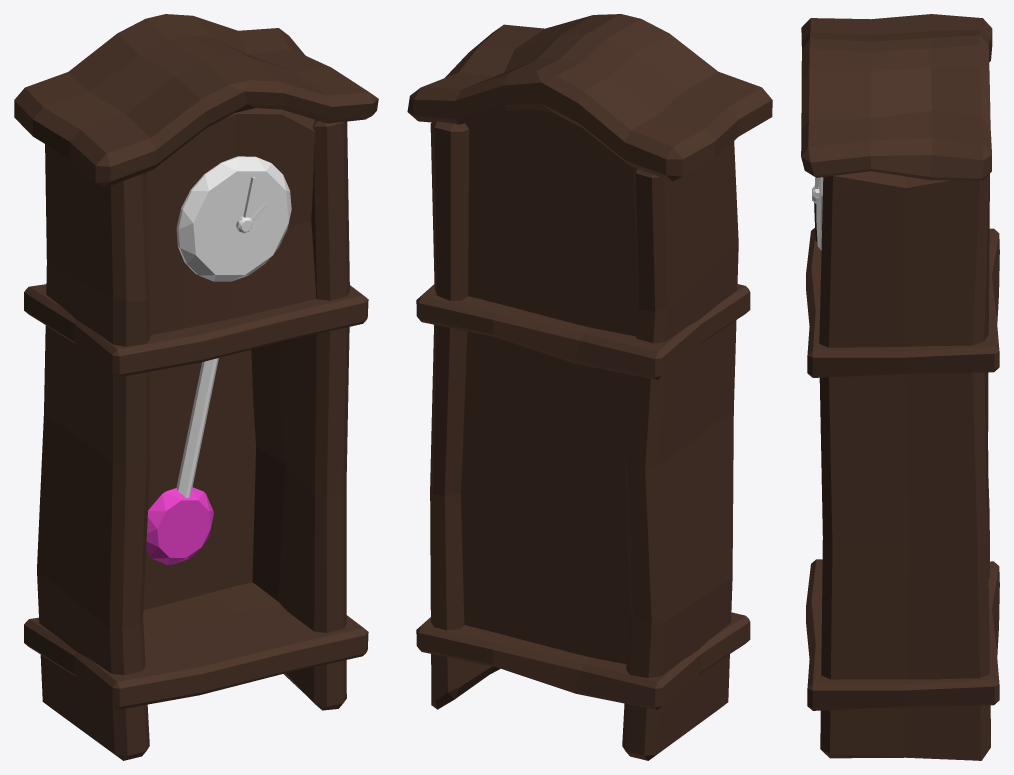
File: clock.fbx
3 views of the same model, side by side, from view 1: azimuth 30°, elevation 25°; view 2: azimuth 150°, elevation 25°; view 3: azimuth 270°, elevation 25° (orthographic).
Parts seen in each view (by area): view 1: Cube.005, Cube.004, Cube.003, Cube.002, Cube.008, Plane, Cube.001, Cylinder.001, Cylinder, Cube; view 2: Plane, Cube.005, Cube.003, Cube.004, Cube.001, Cube.008; view 3: Cube.004, Cube.003, Cube.008, Cube.001, Cylinder.001, Cube.005.
Part boxes in pixels (x1,y1,x2,y2): Cube.005: (37, 144, 150, 760); Cube.004: (251, 120, 349, 710); Cube.003: (14, 14, 378, 187); Cube.002: (144, 108, 316, 335); Cube.008: (24, 582, 368, 709); Plane: (143, 349, 255, 610); Cube.001: (24, 284, 368, 377); Cylinder.001: (176, 156, 291, 281); Cylinder: (146, 487, 213, 564); Cube: (176, 358, 218, 497); Plane: (460, 109, 638, 664); Cube.005: (622, 141, 738, 760); Cube.003: (407, 14, 772, 181); Cube.004: (430, 121, 500, 709); Cube.001: (416, 284, 750, 379); Cube.008: (416, 612, 750, 709); Cube.004: (819, 171, 990, 760); Cube.003: (801, 14, 992, 180); Cube.008: (806, 559, 999, 710); Cube.001: (806, 228, 999, 377); Cylinder.001: (816, 177, 823, 249); Cube.005: (814, 185, 989, 577).
Bounding box in the file's own units: 139 × 311 × 83.77.
